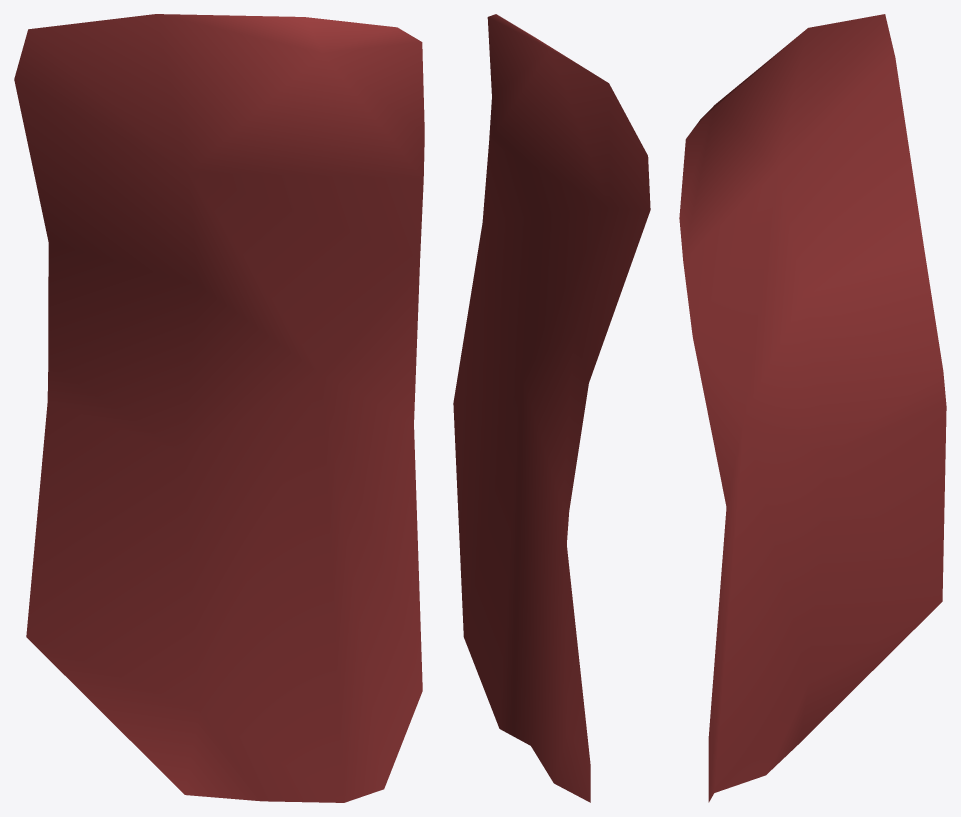
File: diaphragm-o3r.glb
3 views of the same model, side by side, from view 1: azimuth 30°, elevation 25°; view 2: azimuth 150°, elevation 25°; view 3: azimuth 270°, elevation 25° (orthographic). The views are drawn at different scales.
Visible parts, largest first — view 1: Diaphragm.o3r; view 2: Diaphragm.o3r; view 3: Diaphragm.o3r.
Boxes of the visible parts, x1,y1,x2,y2 form: Diaphragm.o3r: [14, 14, 424, 802]; Diaphragm.o3r: [453, 14, 650, 802]; Diaphragm.o3r: [679, 14, 946, 802].
Bounding box in the file's own units: 0.00982 × 0.0242 × 0.00825.
